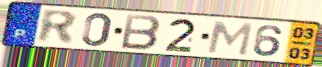0: (80, 12, 114, 48)
2: (164, 17, 197, 53)
6: (253, 24, 284, 58)
B: (119, 13, 163, 52)
M: (205, 20, 255, 57)
R: (36, 8, 79, 46)
